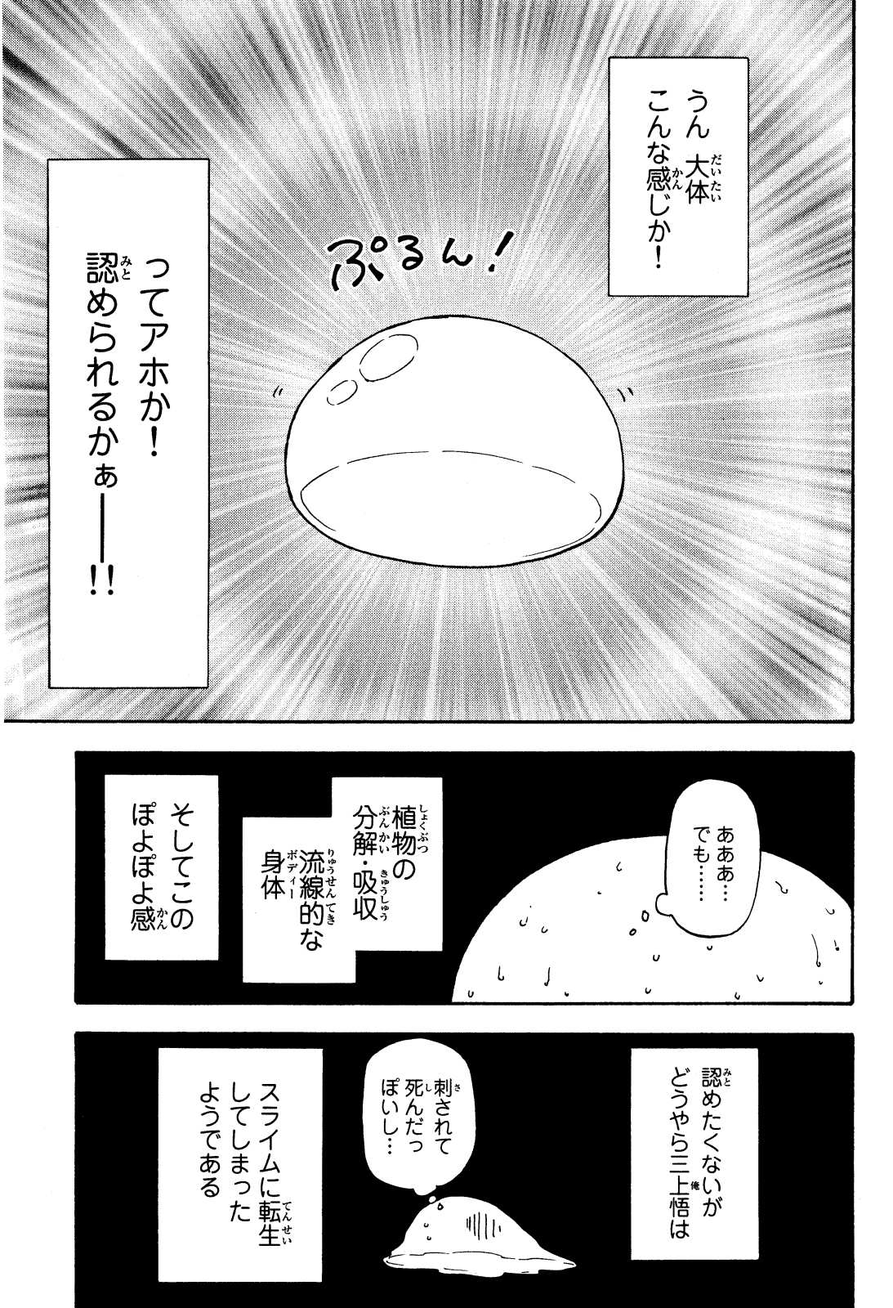bubbles: (40, 155, 215, 697), (235, 770, 453, 988), (153, 1045, 328, 1283), (601, 52, 757, 307), (625, 1042, 764, 1268), (628, 765, 764, 952), (99, 769, 222, 965), (355, 1038, 481, 1209)
